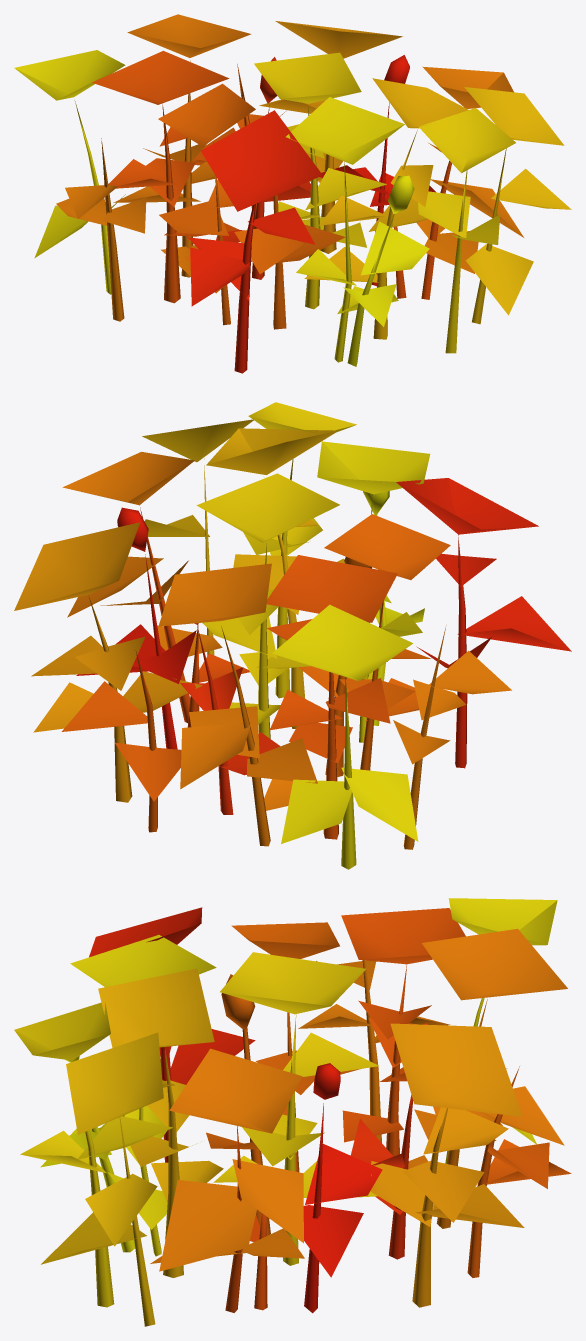
File: G_WhiteFlower_004_S1.FBX
3 views of the same model, one above another, from view 1: azimuth 30°, elevation 25°; view 2: azimuth 150°, elevation 25°; view 3: azimuth 270°, elevation 25° (orthographic). The views are drawn at different scales.
Parts seen in each view (by area): view 1: G_WhiteFlower_004_S1_P01_LOD0; view 2: G_WhiteFlower_004_S1_P01_LOD0; view 3: G_WhiteFlower_004_S1_P01_LOD0.
Part boxes in pixels (x1,y1,x2,y2): G_WhiteFlower_004_S1_P01_LOD0: (14,14,571,373); G_WhiteFlower_004_S1_P01_LOD0: (14,402,571,869); G_WhiteFlower_004_S1_P01_LOD0: (14,898,571,1326).
Size of what is drawn, in the model's own units: 124 by 74.6 by 119.
